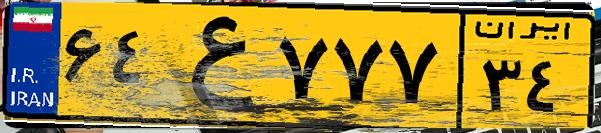3: (475, 38, 525, 113)
4: (525, 38, 570, 115), (110, 28, 158, 98)
6: (57, 26, 110, 100)
7: (270, 28, 330, 110), (385, 28, 445, 110), (330, 28, 385, 110)
ع: (158, 12, 270, 120)
